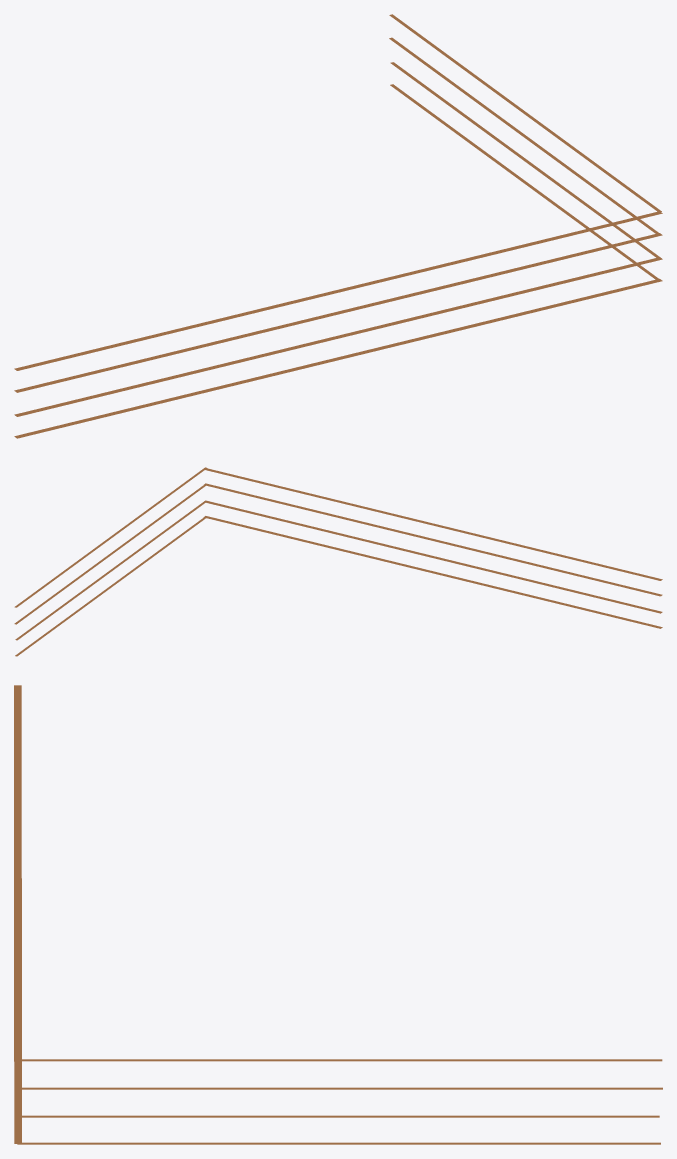
The picture shows the model from 3 angles, top to bottom: view 1: azimuth 30°, elevation 25°; view 2: azimuth 150°, elevation 25°; view 3: azimuth 270°, elevation 25°; orthographic projection. The views are drawn at different scales.
Parts seen in each view (by area): view 1: Plane.003; view 2: Plane.003; view 3: Plane.003.
Boxes of the visible parts, box(x1,y1,x2,y2) form: Plane.003: box(14, 14, 662, 438); Plane.003: box(14, 467, 662, 656); Plane.003: box(14, 685, 662, 1144).
Bounding box in the file's own units: 577 × 59.28 × 419.
